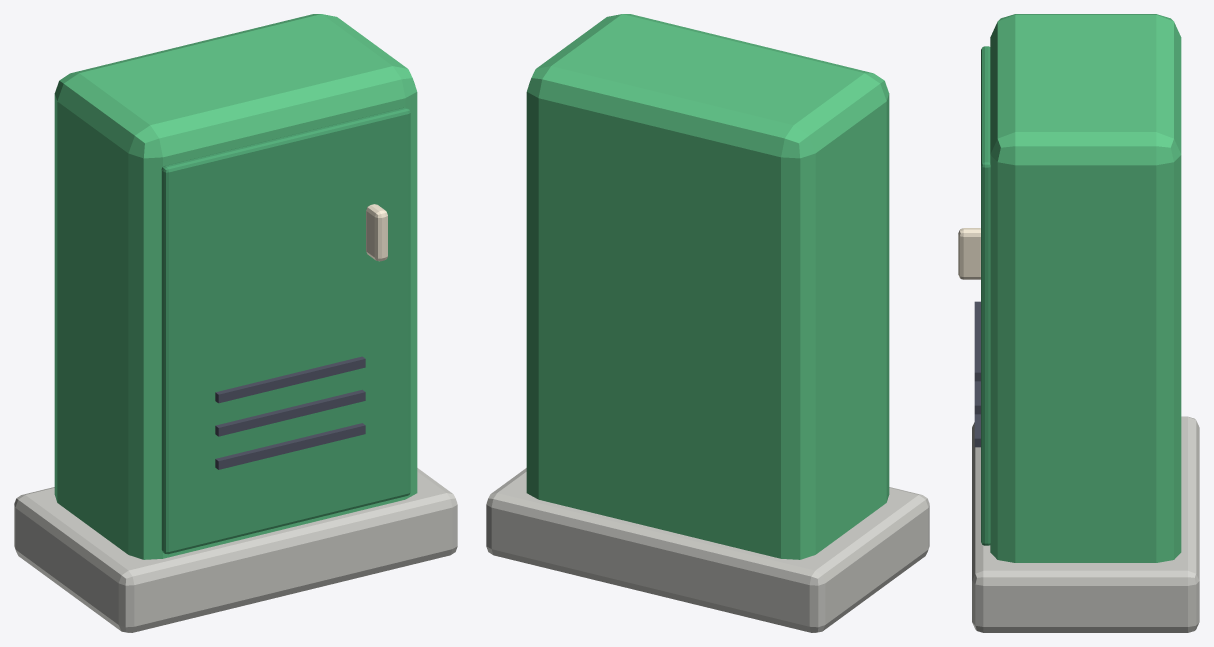
File: utility_cabinet.glb
3 views of the same model, side by side, from view 1: azimuth 30°, elevation 25°; view 2: azimuth 150°, elevation 25°; view 3: azimuth 270°, elevation 25° (orthographic).
Visible parts, largest first — view 1: utility_cabinet__Door, utility_cabinet__Cabinet, utility_cabinet__Plinth, utility_cabinet__Vent, utility_cabinet__Vent.002, utility_cabinet__Vent.001, utility_cabinet__Handle; view 2: utility_cabinet__Cabinet, utility_cabinet__Plinth; view 3: utility_cabinet__Cabinet, utility_cabinet__Plinth, utility_cabinet__Door, utility_cabinet__Handle, utility_cabinet__Vent.002.
Boxes of the visible parts, x1,y1,x2,y2 form: utility_cabinet__Door: [161, 107, 410, 554]; utility_cabinet__Cabinet: [54, 14, 417, 559]; utility_cabinet__Plinth: [14, 468, 457, 632]; utility_cabinet__Vent: [215, 423, 365, 469]; utility_cabinet__Vent.002: [215, 356, 365, 403]; utility_cabinet__Vent.001: [215, 389, 365, 436]; utility_cabinet__Handle: [366, 204, 387, 261]; utility_cabinet__Cabinet: [526, 14, 889, 559]; utility_cabinet__Plinth: [486, 468, 929, 632]; utility_cabinet__Cabinet: [990, 14, 1181, 562]; utility_cabinet__Plinth: [972, 416, 1199, 632]; utility_cabinet__Door: [981, 46, 990, 545]; utility_cabinet__Handle: [958, 228, 980, 279]; utility_cabinet__Vent.002: [974, 301, 980, 381].
Size of the model in its own units: 0.17 by 0.234 by 0.106.
